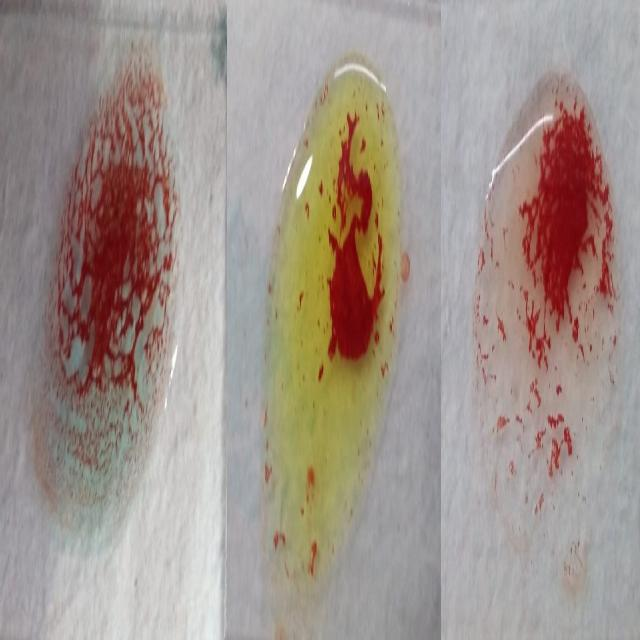A: (30, 59, 180, 503)
B: (271, 55, 403, 568)
D: (479, 55, 619, 548)
